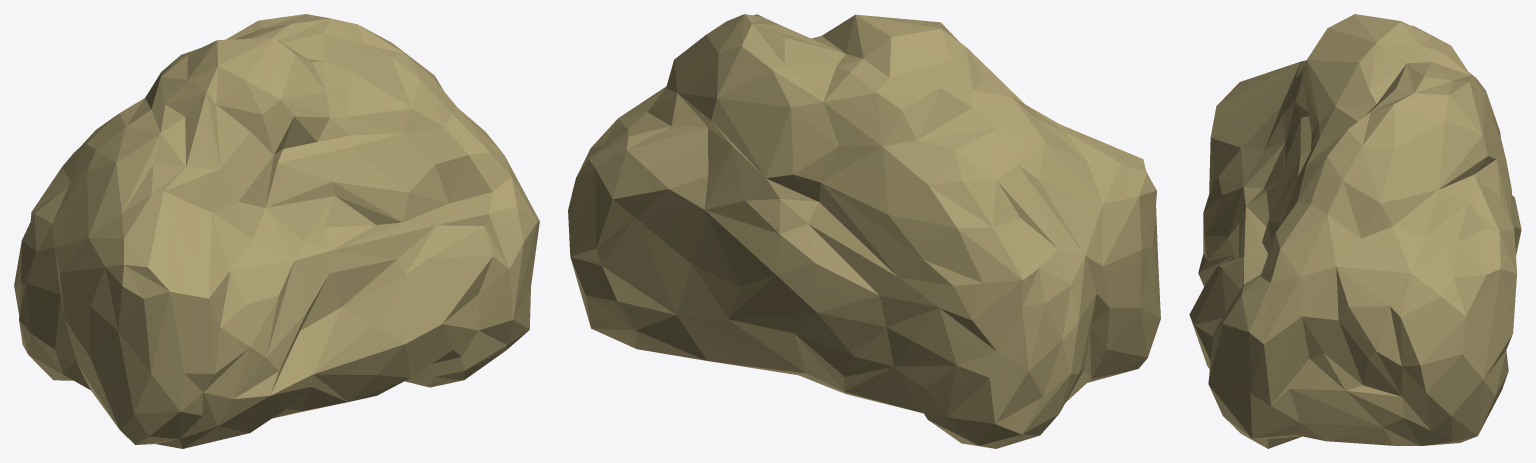
Rendered from SM_rock_66.fbx.
3 views of the same model, side by side, from view 1: azimuth 30°, elevation 25°; view 2: azimuth 150°, elevation 25°; view 3: azimuth 270°, elevation 25° (orthographic). The views are drawn at different scales.
Visible parts, largest first — view 1: rock_66; view 2: rock_66; view 3: rock_66.
Part boxes in pixels (x1,y1,x2,y2): rock_66: (14, 14, 539, 448); rock_66: (568, 14, 1160, 448); rock_66: (1189, 14, 1521, 448).
Size of the model in its own units: 217 by 152 by 134.
